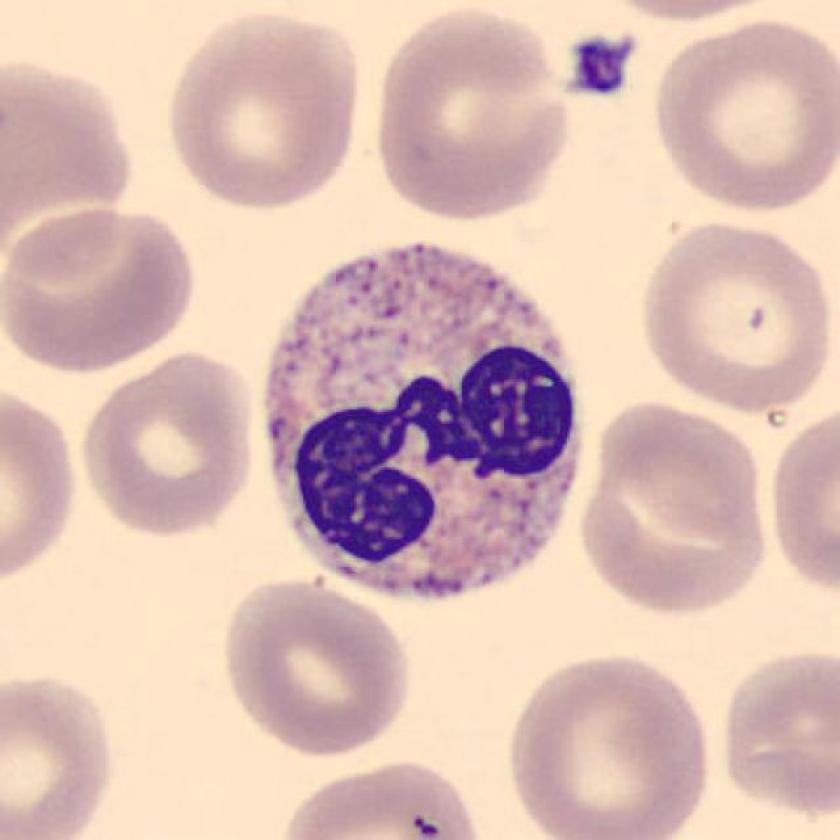neutrophil: (271, 247, 584, 600)
